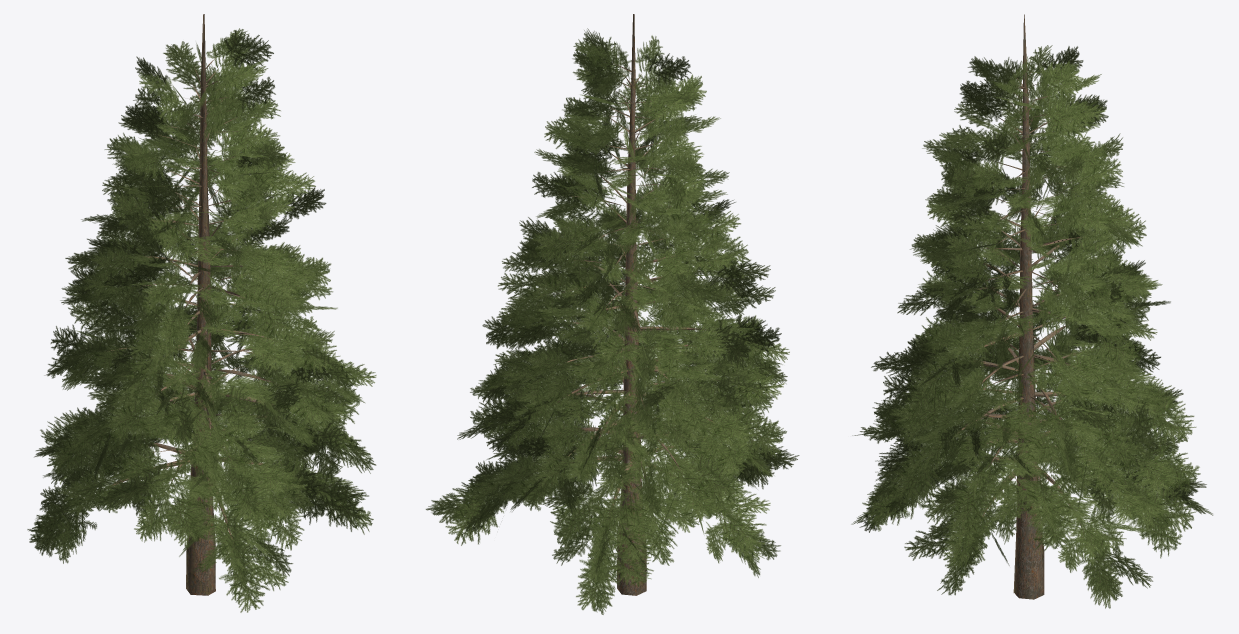
The model's file is spruce_young_lod0.glb.
The picture shows the model from 3 angles, left to right: view 1: azimuth 30°, elevation 25°; view 2: azimuth 150°, elevation 25°; view 3: azimuth 270°, elevation 25°; orthographic projection.
Visible parts, largest first — view 1: bark; view 2: bark; view 3: bark.
Part boxes in pixels (x1,y1,x2,y2): bark: (27,14,376,612); bark: (425,14,799,614); bark: (851,14,1212,608).
Bounding box in the file's own units: 7.06 × 11.83 × 7.15.
Materials: 2 (2 with a texture image).
